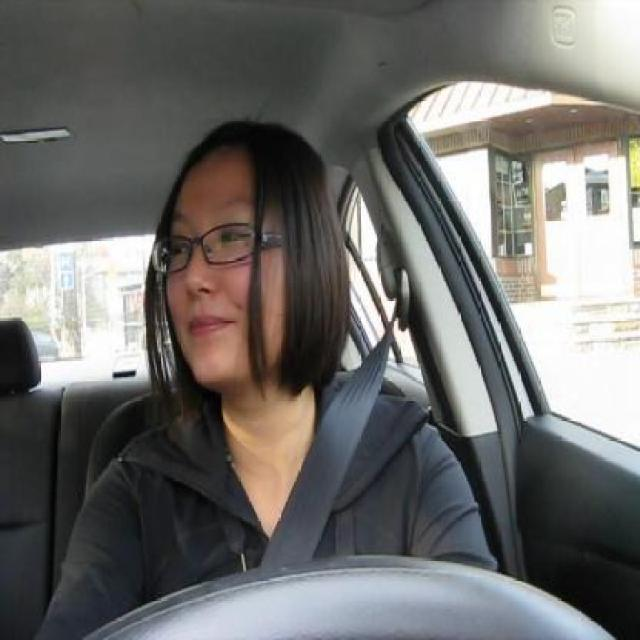awake: (217, 226, 249, 249), (172, 237, 190, 265)
